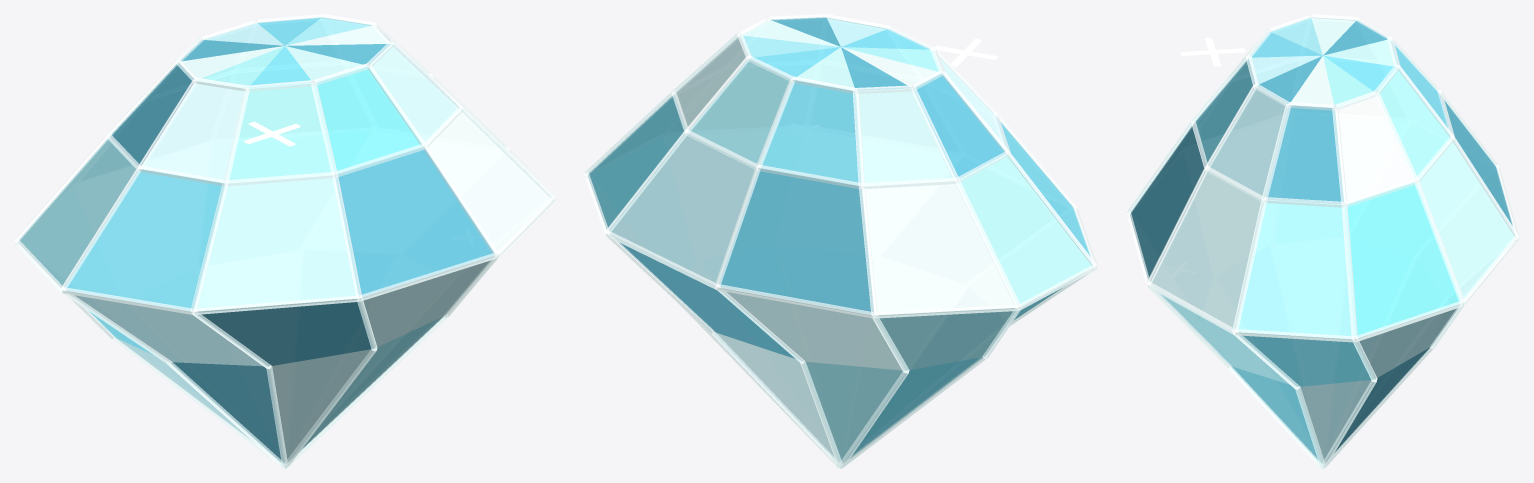
File: Diamond.glb
3 renders of one model, left to right at view 1: azimuth 30°, elevation 25°; view 2: azimuth 150°, elevation 25°; view 3: azimuth 270°, elevation 25°, orthographic. The views are drawn at different scales.
Parts seen in each view (by area): view 1: Diamond_Cut_Faceted, facet_line_45, facet_line_59, facet_line_07, facet_line_20, facet_line_04, facet_line_28, facet_line_31, facet_line_22, facet_line_47, facet_line_30, facet_line_26 (+11 smaller); view 2: Diamond_Cut_Faceted, facet_line_50, facet_line_21, facet_line_01, facet_line_53, facet_line_30, facet_line_27, facet_line_36, facet_line_41, facet_line_55, facet_line_22, facet_line_25 (+13 smaller); view 3: Diamond_Cut_Faceted, facet_line_11, facet_line_15, facet_line_39, facet_line_25, facet_line_10, facet_line_61, facet_line_64, facet_line_07, facet_line_27, facet_line_67, facet_line_66 (+13 smaller).
Boxes of the visible parts, x1,y1,x2,y2 form: Diamond_Cut_Faceted: (18,17,551,462); facet_line_45: (193,295,359,314); facet_line_59: (359,253,498,301); facet_line_07: (286,315,447,468); facet_line_20: (62,287,193,314); facet_line_04: (167,361,285,468); facet_line_28: (285,349,376,468); facet_line_31: (191,182,228,311); facet_line_22: (61,167,141,290); facet_line_47: (332,174,361,298); facet_line_30: (112,336,284,468); facet_line_26: (226,172,335,186); Diamond_Cut_Faceted: (588,17,1092,462); facet_line_50: (716,284,874,318); facet_line_21: (874,305,1018,318); facet_line_01: (955,179,1020,308); facet_line_53: (859,185,877,315); facet_line_30: (841,356,986,468); facet_line_27: (711,331,839,468); facet_line_36: (605,231,716,289); facet_line_41: (715,167,760,286); facet_line_55: (839,370,908,468); facet_line_22: (1007,152,1096,267); facet_line_25: (605,130,687,233); Diamond_Cut_Faceted: (1130,17,1515,462); facet_line_11: (1341,204,1357,339); facet_line_15: (1232,199,1266,331); facet_line_39: (1235,329,1354,342); facet_line_25: (1414,180,1464,303); facet_line_10: (1355,301,1463,341); facet_line_61: (1147,167,1208,284); facet_line_64: (1332,107,1347,204); facet_line_07: (1227,365,1323,468); facet_line_27: (1323,346,1433,468); facet_line_67: (1147,281,1234,334); facet_line_66: (1262,104,1291,199).
Bounding box in the file's own units: 1.09 × 0.9088 × 0.7853.
